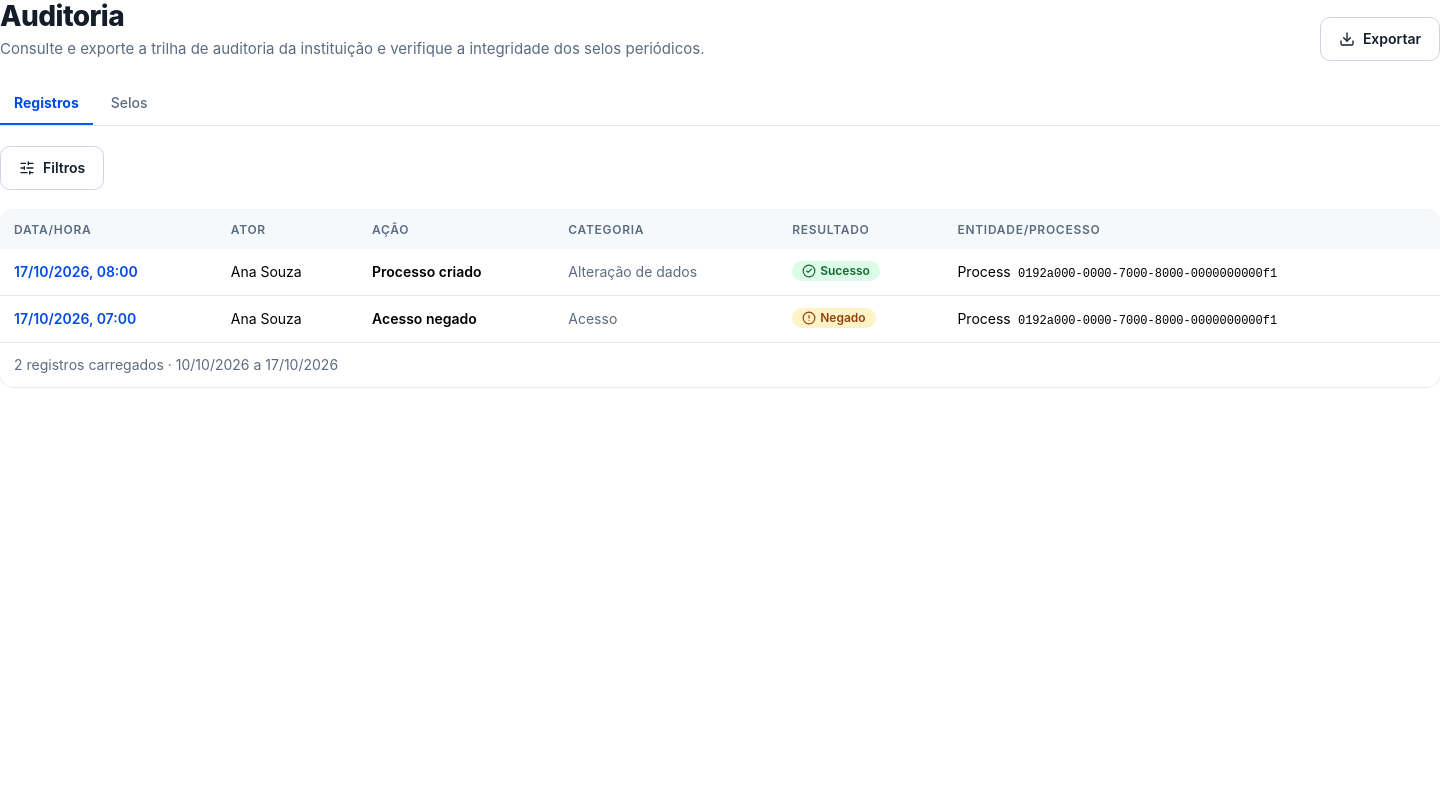
[Sucesso] pesquisar e ver o detalhe (SCR-037 · AUD-01/AUD-02) › abre na aba "Registros" com o período padrão dos últimos 7 dias no fuso da instituição
expect the table named "Registros da trilha de auditoria" is shown: met, box [0, 210, 1439, 342]
expect the tab "Registros" is shown: met, box [0, 81, 93, 125]
Click the button "Filtros" at point(52, 168), box [0, 146, 104, 190]
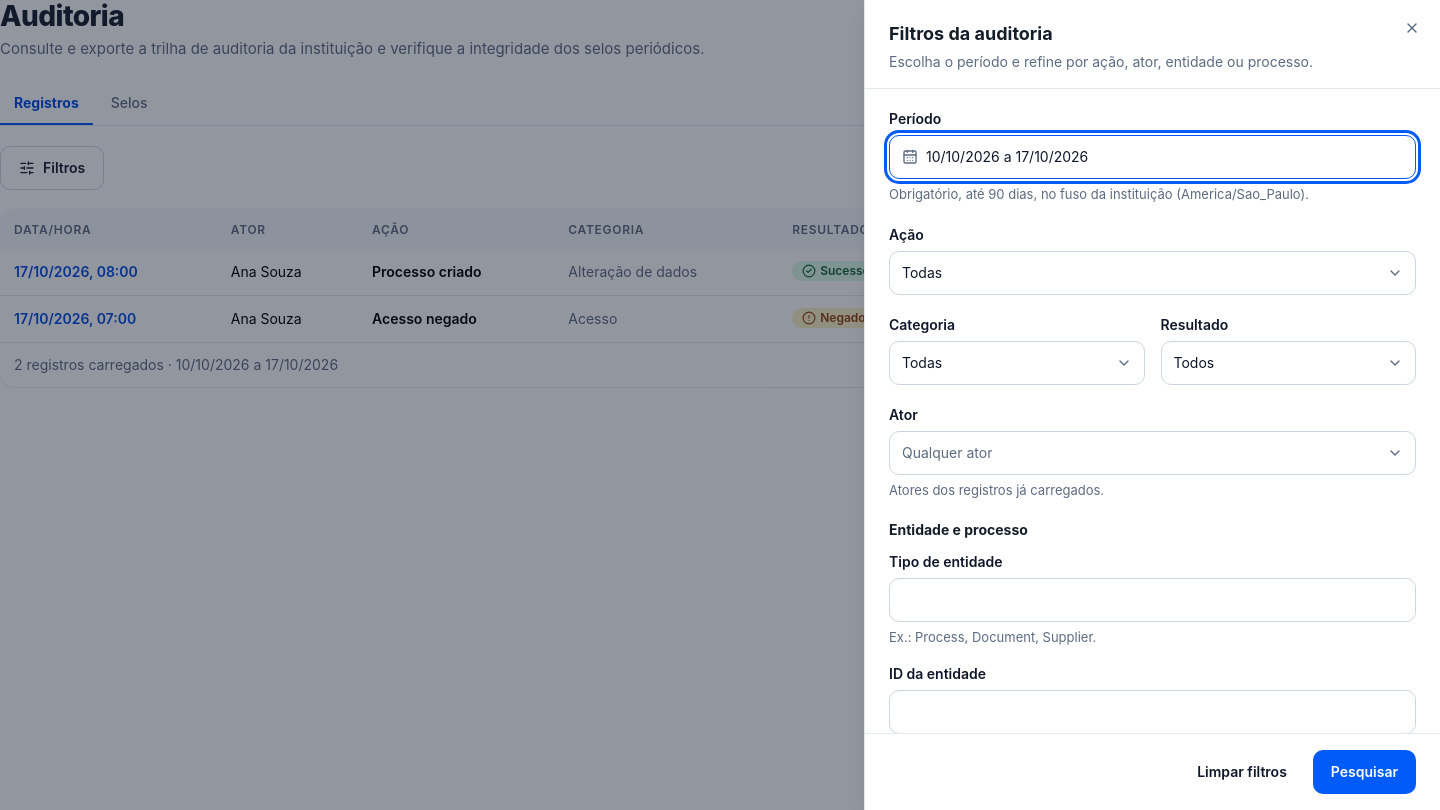
expect the button named "Período" reads "10/10/2026 a 17/10/2026": met, box [889, 135, 1416, 179]
